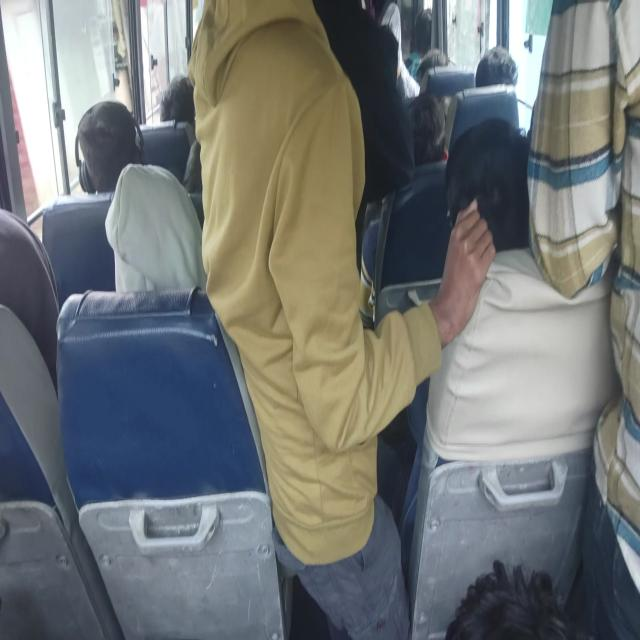person: (531, 0, 639, 635), (227, 0, 379, 328), (123, 182, 259, 358), (0, 218, 52, 472), (448, 126, 538, 266), (73, 97, 156, 217), (402, 101, 477, 185), (165, 66, 224, 148), (478, 48, 522, 107), (424, 37, 453, 107), (368, 0, 401, 37)
